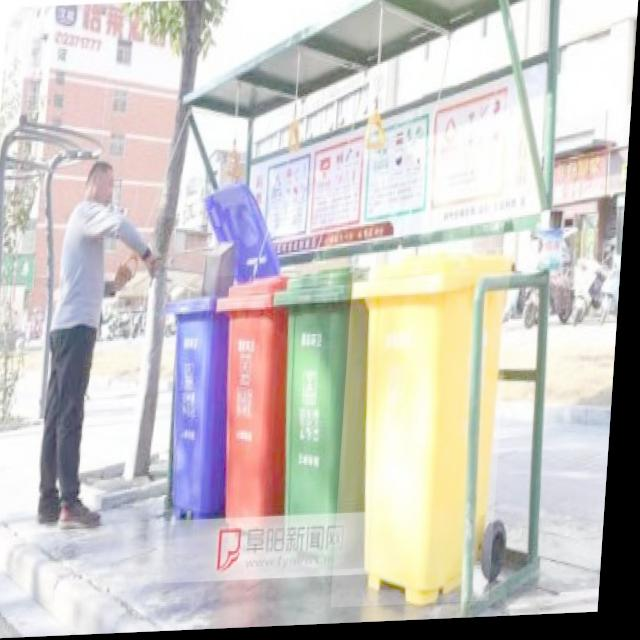garbage_bin: (339, 252, 516, 611), (264, 266, 383, 518), (207, 276, 303, 520)
overflow: (155, 243, 244, 517)
